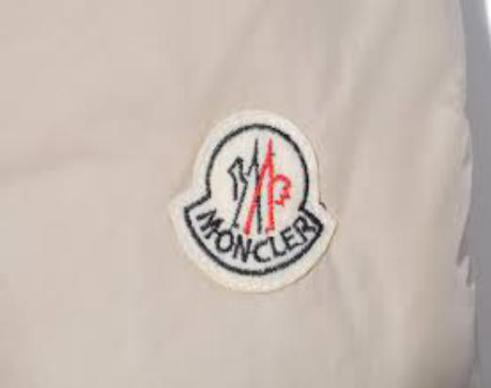MONCLER: (228, 135, 290, 234)
